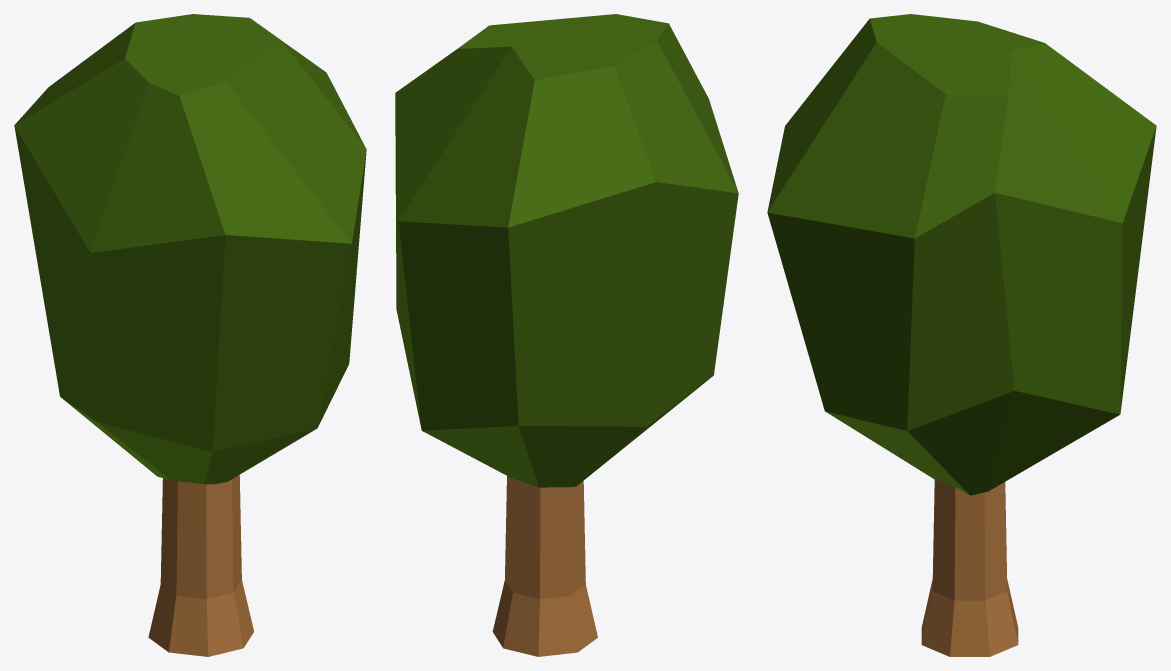
The model's file is tree1.fbx.
3 renders of one model, left to right at view 1: azimuth 30°, elevation 25°; view 2: azimuth 150°, elevation 25°; view 3: azimuth 270°, elevation 25°, orthographic.
Parts seen in each view (by area): view 1: Body; view 2: Body; view 3: Body.
Part boxes in pixels (left/top/right/bottom): Body: left=14, top=14, right=366, bottom=656; Body: left=395, top=14, right=738, bottom=656; Body: left=767, top=14, right=1156, bottom=656.
Bounding box in the file's own units: 541 × 1073 × 640.
